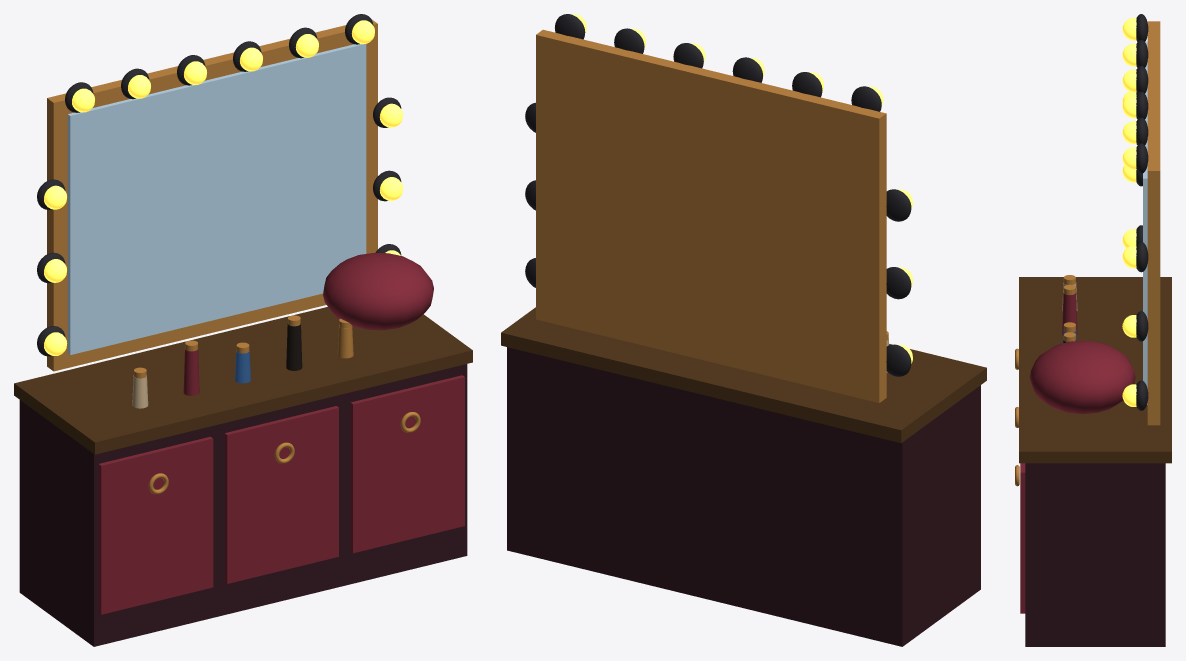
The model's file is mia-vanity_bulb.glb.
The picture shows the model from 3 angles, left to right: view 1: azimuth 30°, elevation 25°; view 2: azimuth 150°, elevation 25°; view 3: azimuth 270°, elevation 25°; orthographic projection. The views are drawn at different scales.
Parts seen in each view (by area): view 1: Body_mirror-silver, Body_velvet, Body_dark, Body_wood, Body_brass, Body_amber, Body_iron, Body_black; view 2: Body_brass, Body_dark, Body_wood, Body_iron, Body_amber; view 3: Body_dark, Body_wood, Body_velvet, Body_brass, Body_amber, Body_iron, Body_mirror-silver.
Boxes of the visible parts, x1,y1,x2,y2 form: Body_mirror-silver: (67,44,366,354); Body_velvet: (98,253,464,614); Body_dark: (19,364,467,646); Body_wood: (14,307,472,454); Body_brass: (47,19,420,494); Body_amber: (44,20,402,355); Body_iron: (37,14,401,356); Body_black: (286,323,302,370); Body_brass: (536,29,888,402); Body_dark: (507,347,980,646); Body_wood: (501,307,986,443); Body_iron: (525,14,911,376); Body_amber: (572,14,912,363); Body_dark: (1025,463,1165,646); Body_wood: (1019,277,1171,463); Body_velvet: (1020,292,1135,613); Body_brass: (1015,21,1160,486); Body_amber: (1122,18,1136,406); Body_iron: (1136,14,1148,410); Body_mirror-silver: (1143,41,1147,404).
Bounding box in the file's own units: 1.62 × 2.08 × 0.6149.
